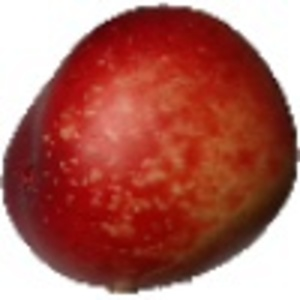nectarina: (1, 4, 300, 296)
